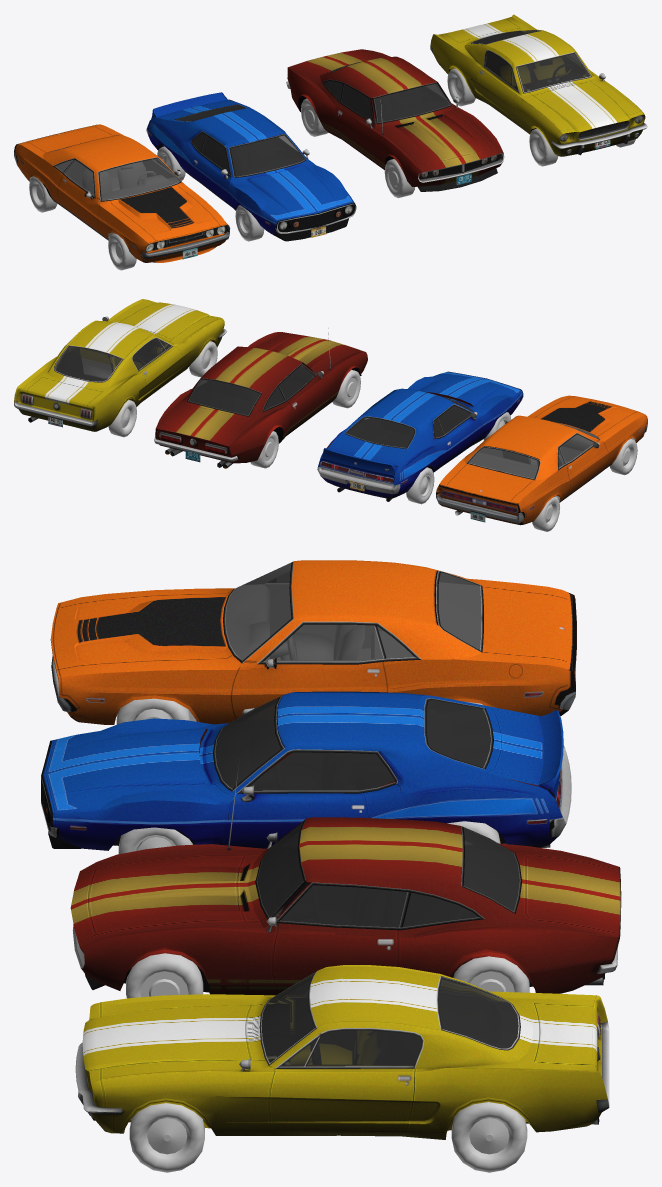
Rendered from Updated_cars.fbx.
3 views of the same model, one above another, from view 1: azimuth 30°, elevation 25°; view 2: azimuth 150°, elevation 25°; view 3: azimuth 270°, elevation 25° (orthographic). The views are drawn at different scales.
Visible parts, largest first — view 1: Body_Gloss_3, Body_Gloss, Body_Gloss_1, Number_Plates_1, Chassis, Interior_2, Wheel_FL_3.002, Wheel_FL.002, Wheel_FL_4.003, Wheel_FL_1.002, Wheel_FL_4.004, Wheel_FL.003 (+2 smaller); view 2: Body_Gloss_3, Body_Gloss, Number_Plates_1, Body_Gloss_1, Interior_2, Chassis, Wheel_FL_3.002, Wheel_FL_1.003, Wheel_FL_4.004, Wheel_FL.002, Wheel_FL_4.003, Wheel_FL.003 (+1 smaller); view 3: Body_Gloss_3, Number_Plates_1, Body_Gloss, Body_Gloss_1, Interior_2, Chassis, Wheel_FL_4.001, Wheel_FL_4, Wheel_FL_3, Wheel_FL_3.001, Wheel_FL, Wheel_FL_1.
Part boxes in pixels (bbox=[...]): Body_Gloss_3: bbox=[286, 49, 504, 191]; Body_Gloss: bbox=[14, 124, 230, 262]; Body_Gloss_1: bbox=[146, 92, 356, 241]; Number_Plates_1: bbox=[430, 14, 647, 156]; Chassis: bbox=[29, 149, 179, 238]; Interior_2: bbox=[324, 69, 449, 122]; Wheel_FL_3.002: bbox=[384, 159, 414, 198]; Wheel_FL.002: bbox=[108, 233, 136, 270]; Wheel_FL_4.003: bbox=[529, 128, 558, 166]; Wheel_FL_1.002: bbox=[235, 205, 264, 241]; Wheel_FL_4.004: bbox=[447, 68, 475, 106]; Wheel_FL.003: bbox=[29, 176, 57, 212]; Body_Gloss_3: bbox=[154, 328, 367, 468]; Body_Gloss: bbox=[436, 395, 647, 525]; Number_Plates_1: bbox=[14, 299, 227, 431]; Body_Gloss_1: bbox=[317, 371, 523, 501]; Interior_2: bbox=[189, 367, 313, 414]; Chassis: bbox=[455, 425, 635, 515]; Wheel_FL_3.002: bbox=[332, 370, 360, 408]; Wheel_FL_1.003: bbox=[406, 467, 434, 504]; Wheel_FL_4.004: bbox=[108, 400, 136, 437]; Wheel_FL.002: bbox=[610, 439, 637, 475]; Wheel_FL_4.003: bbox=[189, 341, 217, 377]; Wheel_FL.003: bbox=[532, 496, 559, 531]; Body_Gloss_3: bbox=[70, 759, 621, 995]; Number_Plates_1: bbox=[75, 965, 609, 1139]; Body_Gloss: bbox=[50, 560, 576, 724]; Body_Gloss_1: bbox=[41, 691, 571, 850]; Interior_2: bbox=[257, 823, 519, 927]; Chassis: bbox=[116, 563, 480, 721]; Wheel_FL_4.001: bbox=[451, 1102, 527, 1172]; Wheel_FL_4: bbox=[129, 1103, 204, 1172]; Wheel_FL_3: bbox=[126, 953, 203, 998]; Wheel_FL_3.001: bbox=[453, 956, 529, 992]; Wheel_FL: bbox=[116, 698, 190, 724]; Wheel_FL_1: bbox=[118, 827, 192, 854].
Size of the model in its own units: 10.6 by 1.99 by 5.25.
